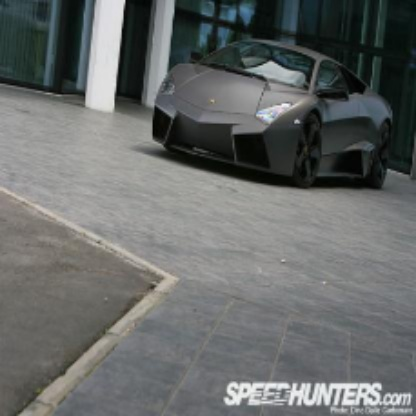Vehicle: (152, 37, 395, 191)
